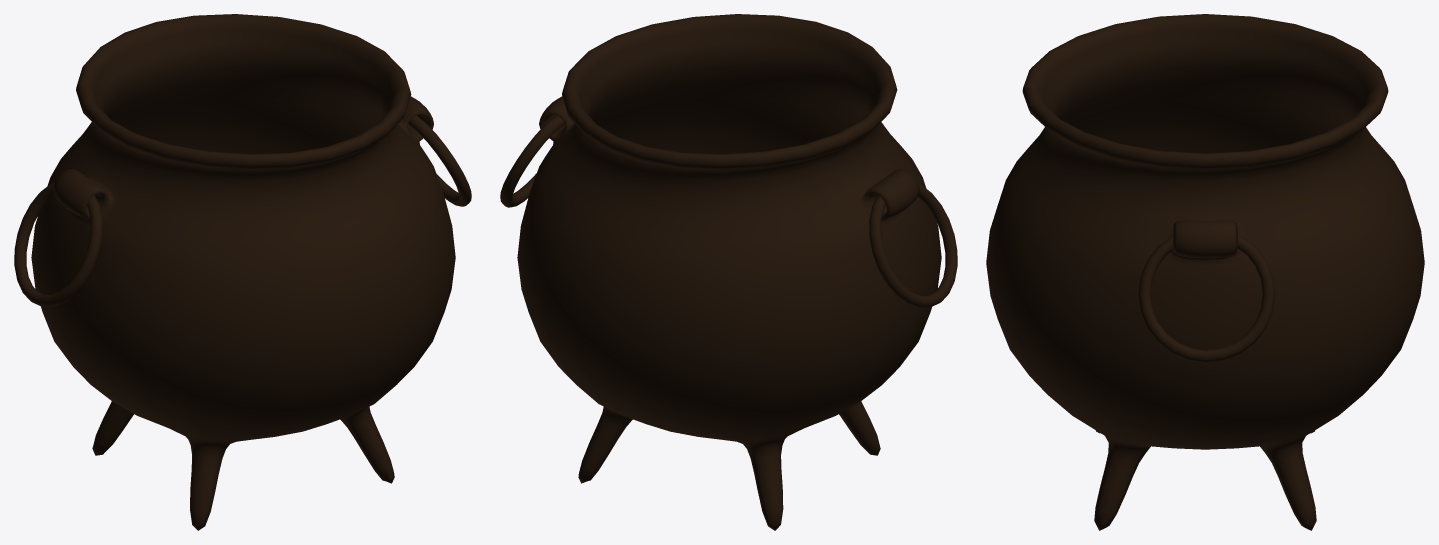
The model's file is Cauldron.fbx.
The picture shows the model from 3 angles, left to right: view 1: azimuth 30°, elevation 25°; view 2: azimuth 150°, elevation 25°; view 3: azimuth 270°, elevation 25°; orthographic projection. The views are drawn at different scales.
Parts seen in each view (by area): view 1: Firewood; view 2: Firewood; view 3: Firewood.
Part boxes in pixels (<box>): Firewood: <box>14,14,471,530</box>; Firewood: <box>500,14,957,530</box>; Firewood: <box>986,14,1424,530</box>.
Bounding box in the file's own units: 139 × 120 × 120.
